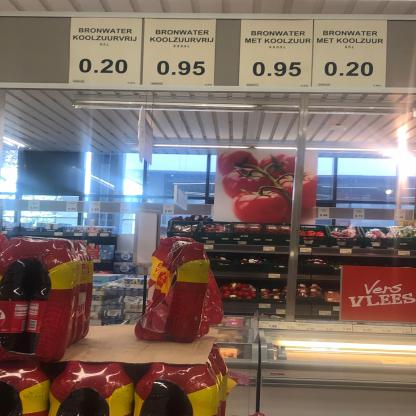prtg: (238, 20, 315, 89), (313, 20, 389, 89), (143, 19, 219, 87), (69, 18, 144, 86)
